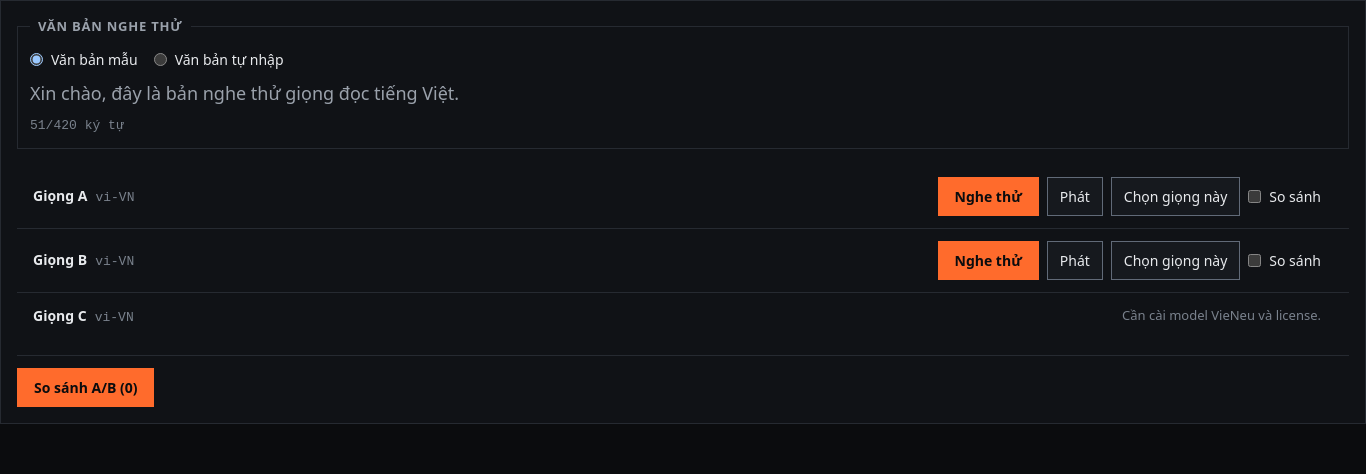
Test case: VoicePreviewPanel (A02) › hủy job đang xếp hàng
Click the button "Nghe thử" in the row of "Giọng A".
click(988, 196)  # box x1=938 y1=177 x2=1039 y2=216
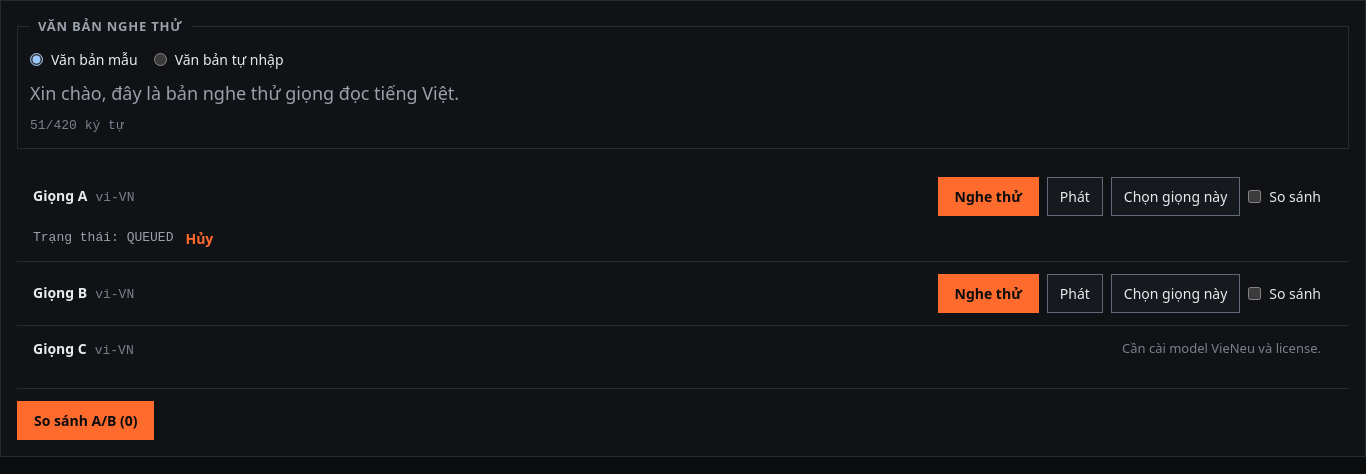
Click the button "Hủy".
click(199, 238)  # box x1=181 y1=228 x2=217 y2=249
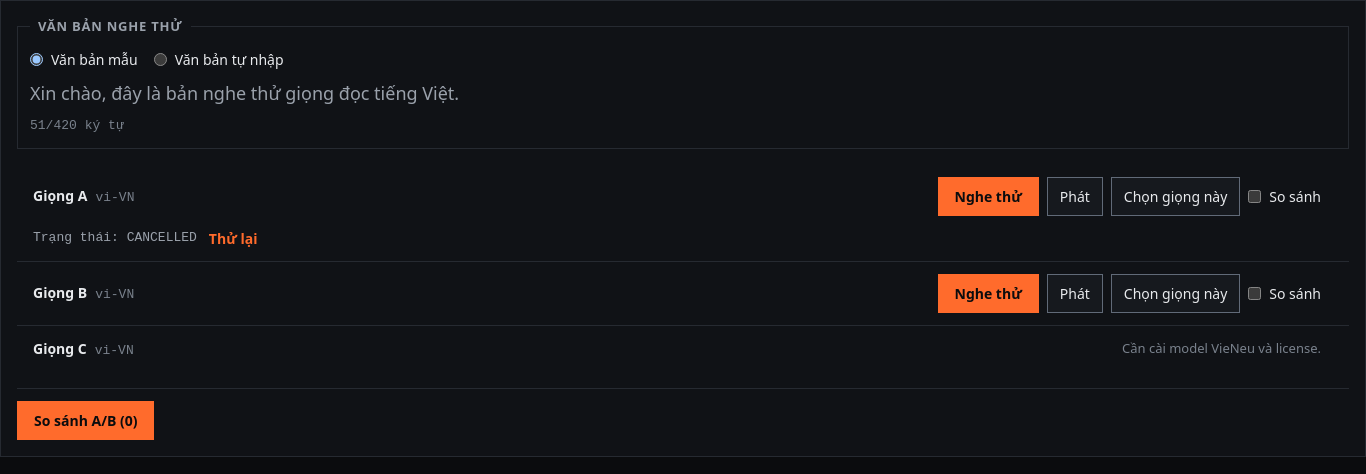
Now the text "Trạng thái: CANCELLED" is shown, box x1=33 y1=228 x2=197 y2=248
